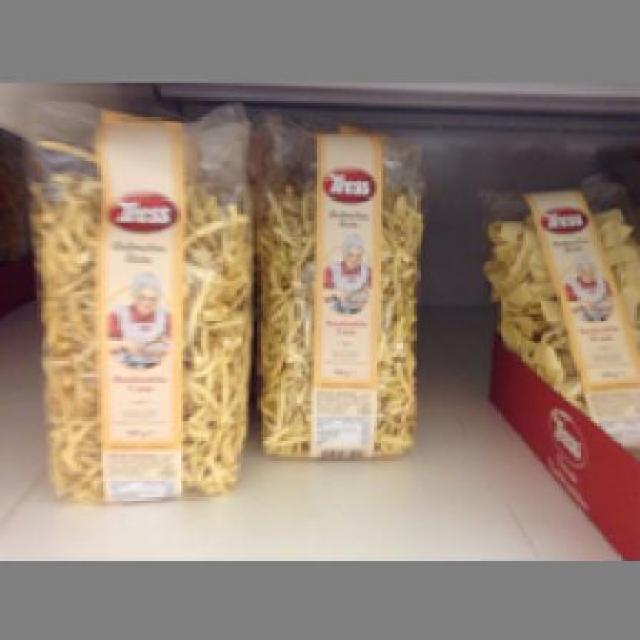Pasta: (16, 90, 252, 503), (251, 105, 423, 458), (480, 168, 637, 444)
